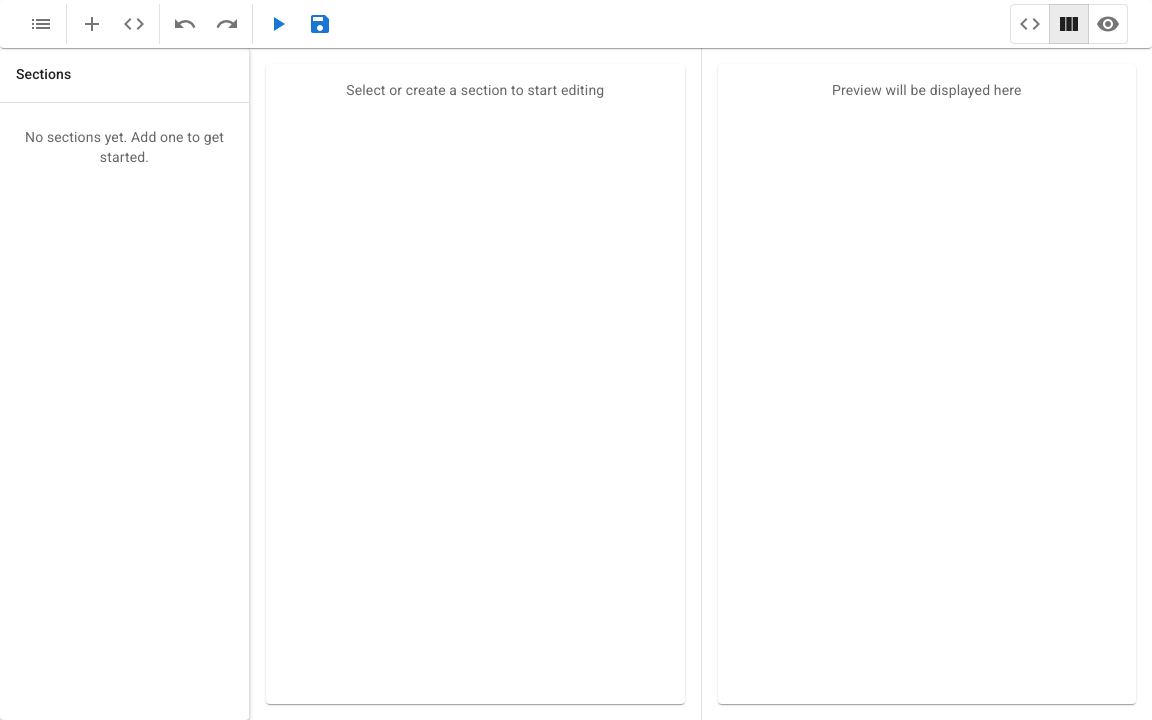
Test: DynamicTextEditor › should toggle sidebar visibility
expect the heading "Sections" is shown: met, box [16, 66, 71, 82]
# Hide sidebar
Click the button named "Toggle Section List" at (41, 24), box [24, 7, 58, 41]
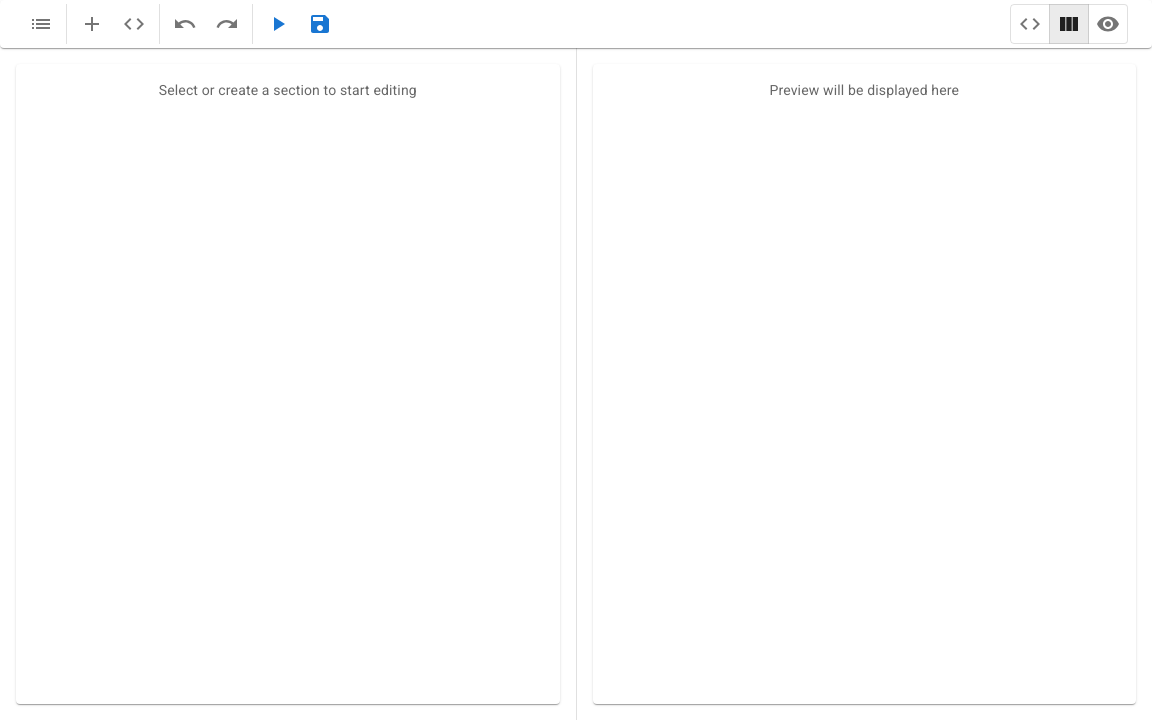
expect the heading "Sections" is gone: met
# Show sidebar again
Click the button named "Toggle Section List" at (41, 24), box [24, 7, 58, 41]
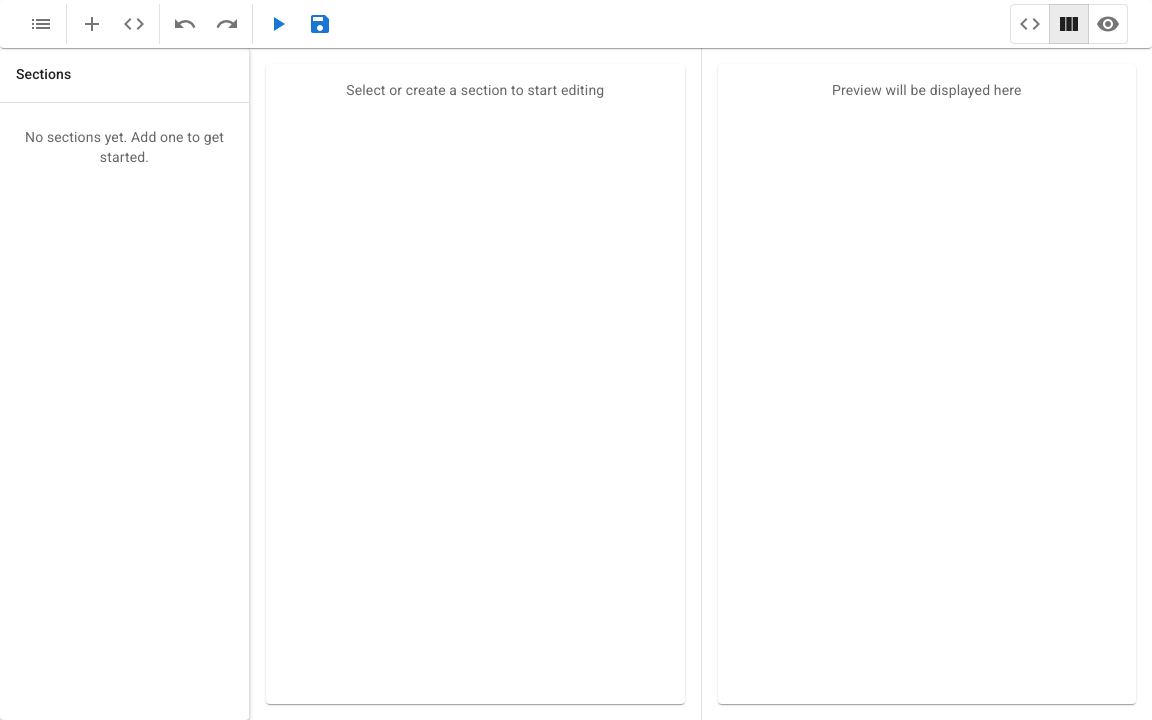
expect the heading "Sections" is shown: met, box [16, 66, 71, 82]
